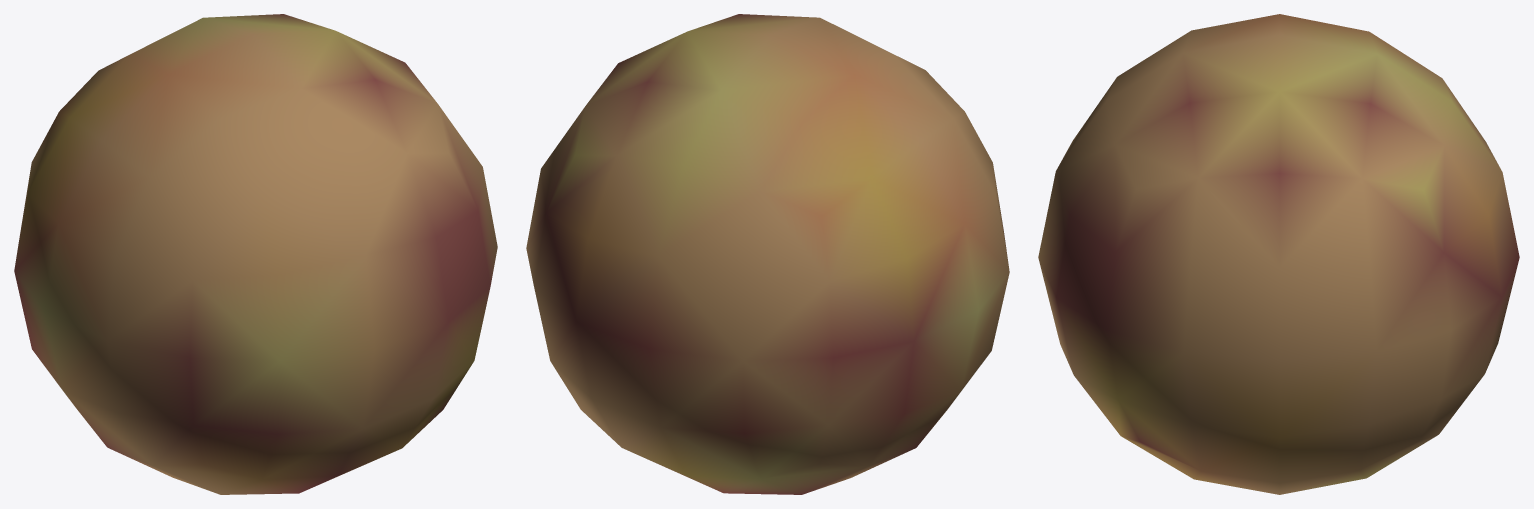
The model's file is space-planets-moons-alien-planet_v1.fbx.
3 renders of one model, left to right at view 1: azimuth 30°, elevation 25°; view 2: azimuth 150°, elevation 25°; view 3: azimuth 270°, elevation 25°, orthographic.
Visible parts, largest first — view 1: Alien Planet_v1; view 2: Alien Planet_v1; view 3: Alien Planet_v1.
Boxes of the visible parts, x1,y1,x2,y2 form: Alien Planet_v1: [14, 14, 497, 494]; Alien Planet_v1: [526, 14, 1009, 494]; Alien Planet_v1: [1038, 14, 1519, 494].
Size of the model in its own units: 0.4999 by 0.4999 by 0.5.
